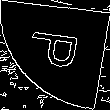P_E: (23, 32, 87, 78)
